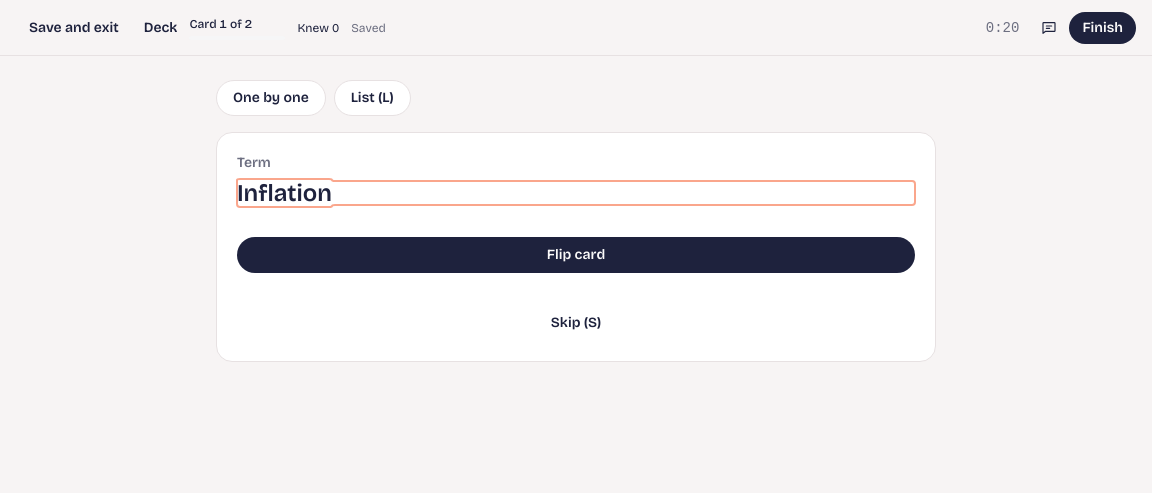
Test case: keeps a failed study rating on the current card for retry
Click the button "Flip card". click: click(576, 255)
box: [237,237,915,273]
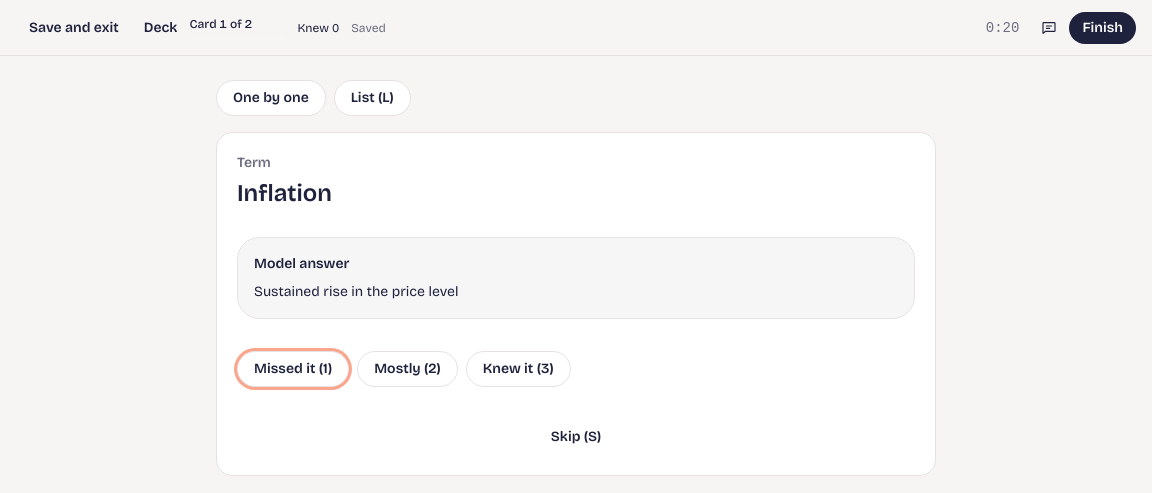
Click the button "Missed it (1)". click: click(293, 369)
box: [237,351,349,387]
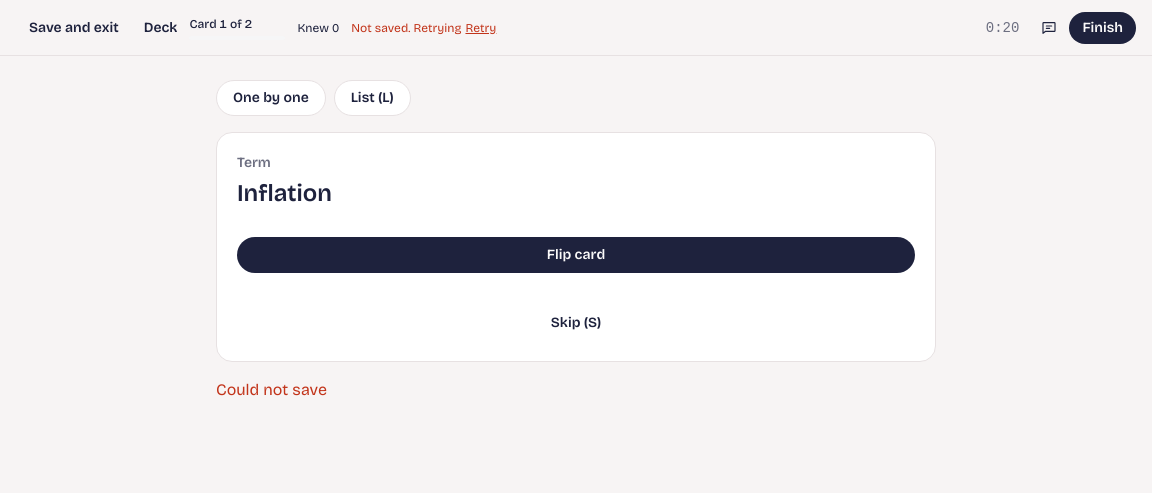
Check: the heading "Inflation" is shown, box [237,179,332,207]
Check: the message "Could not save" is shown, box [216,380,327,399]
